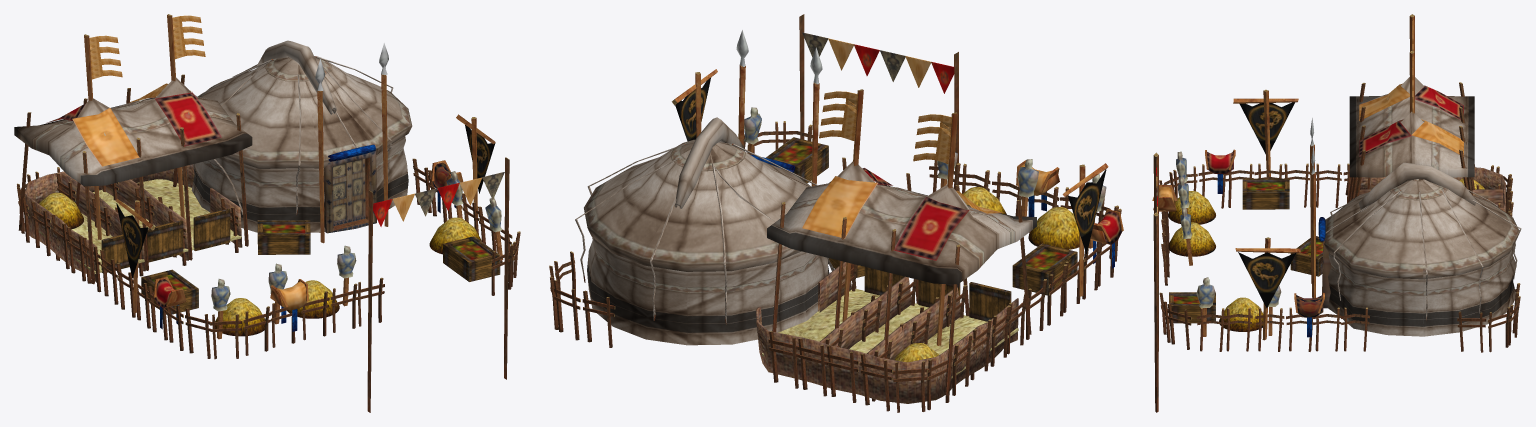
The model's file is stable.dae.
The picture shows the model from 3 angles, left to right: view 1: azimuth 30°, elevation 25°; view 2: azimuth 150°, elevation 25°; view 3: azimuth 270°, elevation 25°; orthographic projection. The views are drawn at different scales.
Visible parts, largest first — view 1: stable; view 2: stable; view 3: stable.
Boxes of the visible parts, x1,y1,x2,y2 form: stable: (14, 14, 520, 412); stable: (549, 14, 1123, 412); stable: (1152, 14, 1521, 412).
Size of the model in its own units: 19.18 by 19.42 by 16.04.
